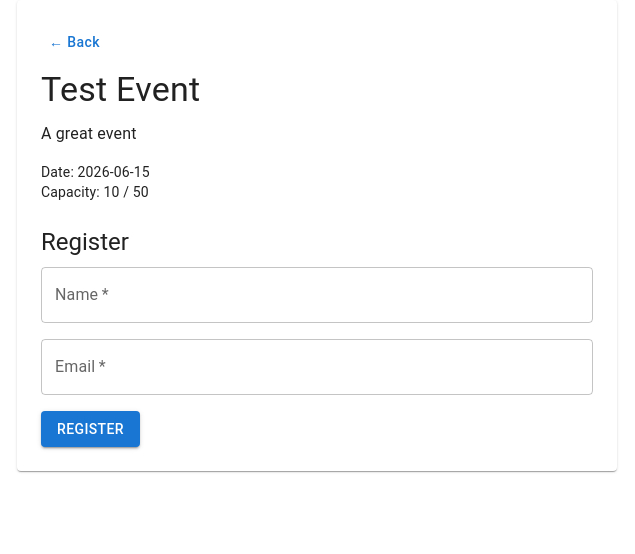
Test: shows error on registration failure
This screenshot has width=635, height=554.
Expected: the heading "Test Event" is shown, x1=41 y1=68 x2=200 y2=108
Type "Bob" into the field labelled "Name *" at (317, 295), box x1=41 y1=267 x2=593 y2=323
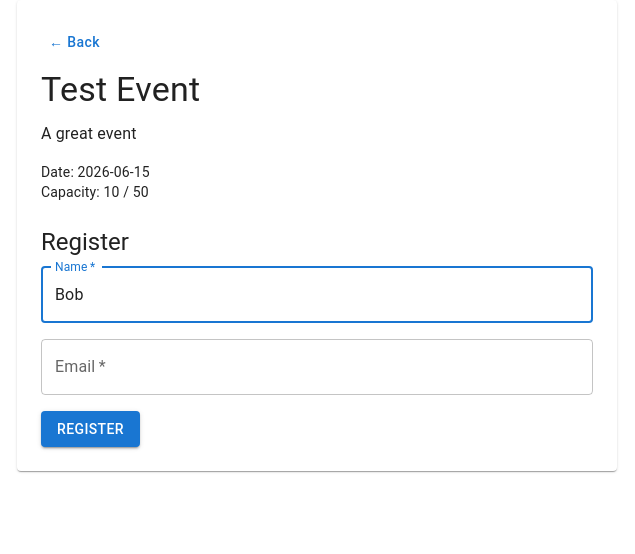
Type "bob@test.com" into the field labelled "Email *" at (317, 367), box x1=41 y1=339 x2=593 y2=395
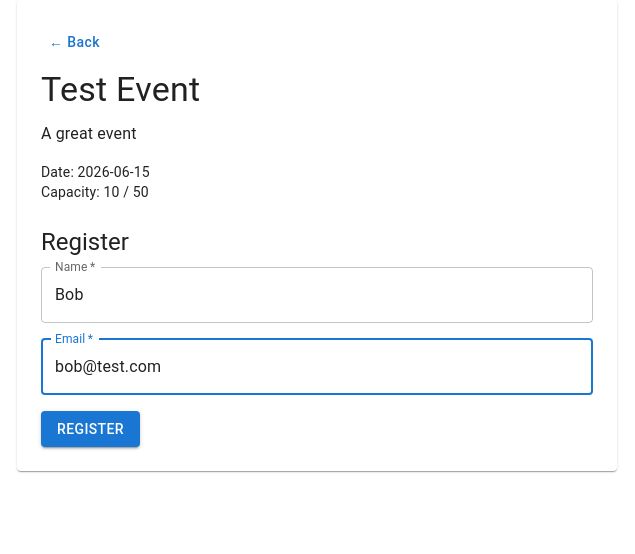
Click the button "Register" at (90, 429), box x1=41 y1=411 x2=140 y2=447
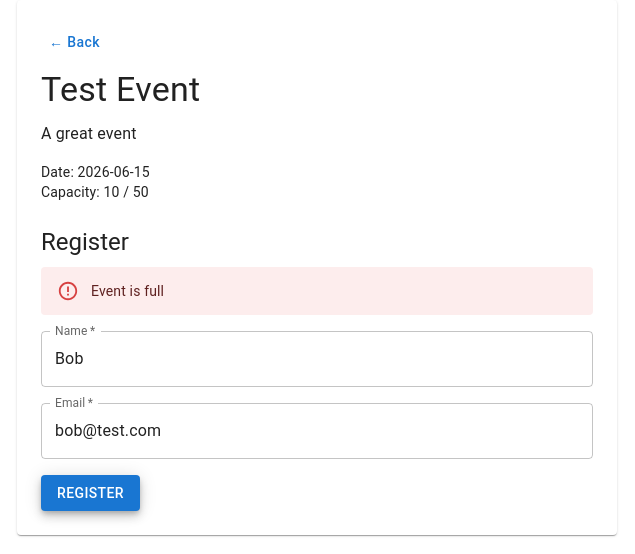
Expected: the text "Event is full" is shown, x1=91 y1=283 x2=164 y2=299
